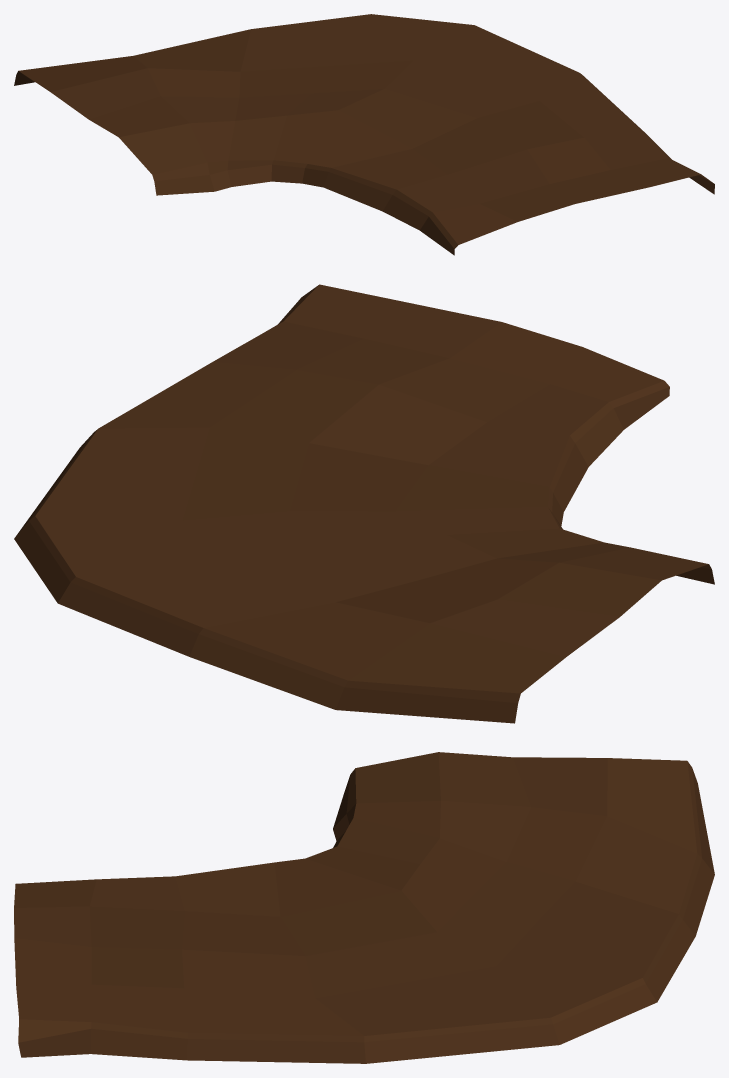
The model's file is RoadDirty_5.fbx.
3 views of the same model, one above another, from view 1: azimuth 30°, elevation 25°; view 2: azimuth 150°, elevation 25°; view 3: azimuth 270°, elevation 25° (orthographic). The views are drawn at different scales.
Parts seen in each view (by area): view 1: RoadDirty_5; view 2: RoadDirty_5; view 3: RoadDirty_5.
Boxes of the visible parts, <box> form: RoadDirty_5: <box>14,14,714,255</box>; RoadDirty_5: <box>14,284,714,723</box>; RoadDirty_5: <box>14,752,714,1063</box>.
Bounding box in the file's own units: 533 × 45.99 × 588.
